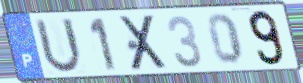0: (206, 12, 246, 68)
1: (87, 16, 119, 73)
3: (166, 14, 203, 69)
9: (247, 8, 287, 67)
U: (33, 17, 84, 76)
X: (118, 13, 171, 73)
